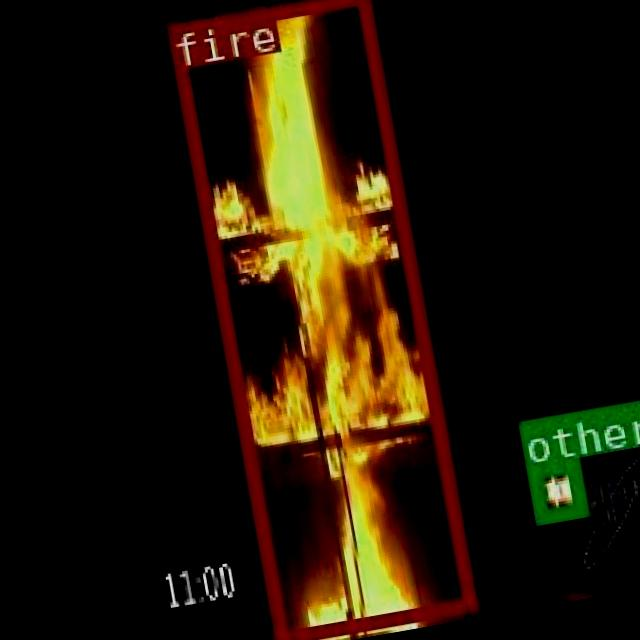fire: (164, 0, 474, 640)
